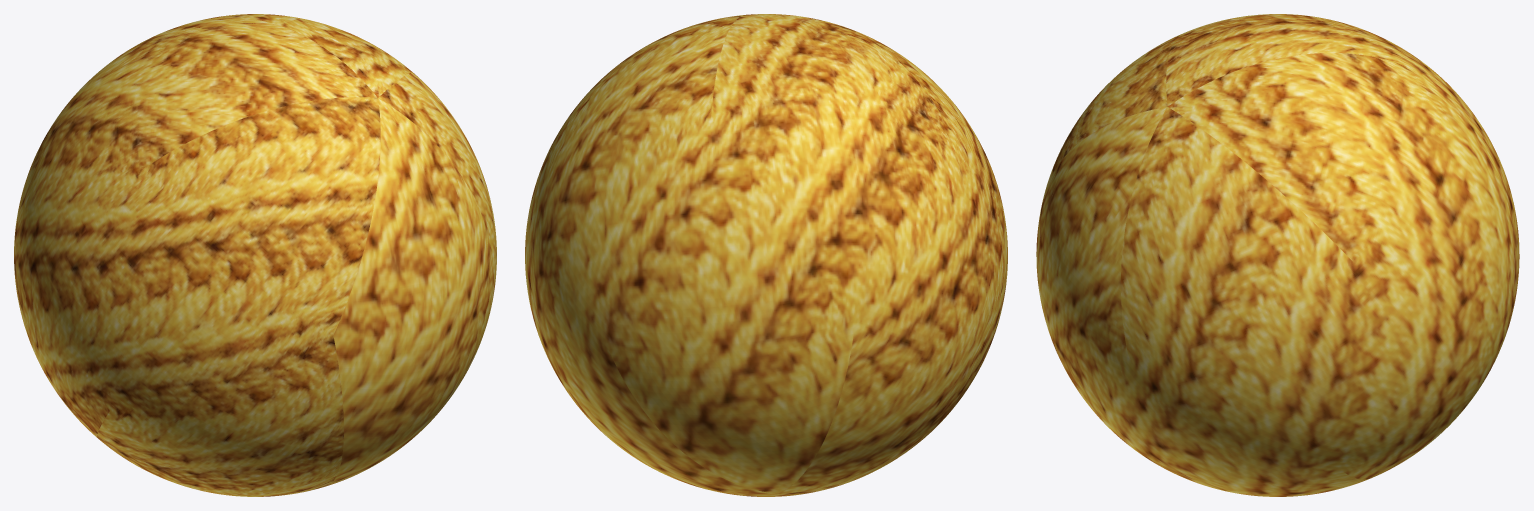
Rendered from ball4.obj.
The picture shows the model from 3 angles, left to right: view 1: azimuth 30°, elevation 25°; view 2: azimuth 150°, elevation 25°; view 3: azimuth 270°, elevation 25°; orthographic projection.
Visible parts, largest first — view 1: Icosphere.027; view 2: Icosphere.027; view 3: Icosphere.027.
Part boxes in pixels (box(x1,y1,x2,y2)): Icosphere.027: box(14, 14, 496, 496); Icosphere.027: box(525, 14, 1007, 496); Icosphere.027: box(1036, 14, 1519, 496).
Size of the model in its own units: 0.9999 by 1 by 0.9999.
Materials: 1 (1 with a texture image).
